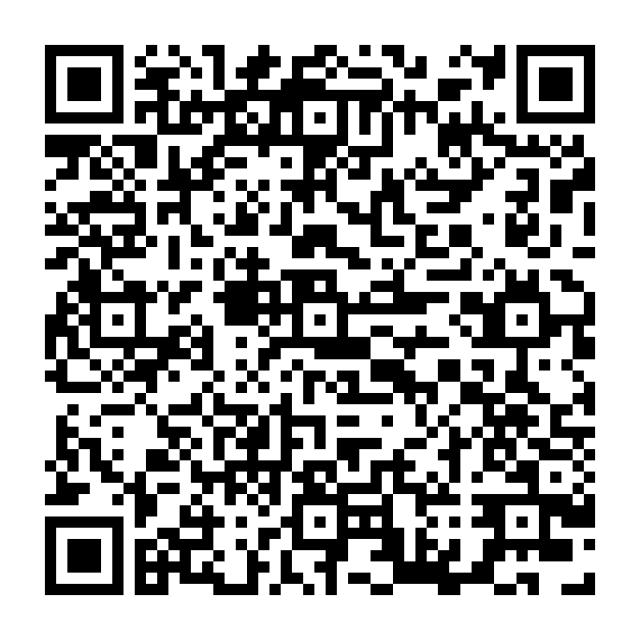QRCode: (1, 1, 640, 619)
